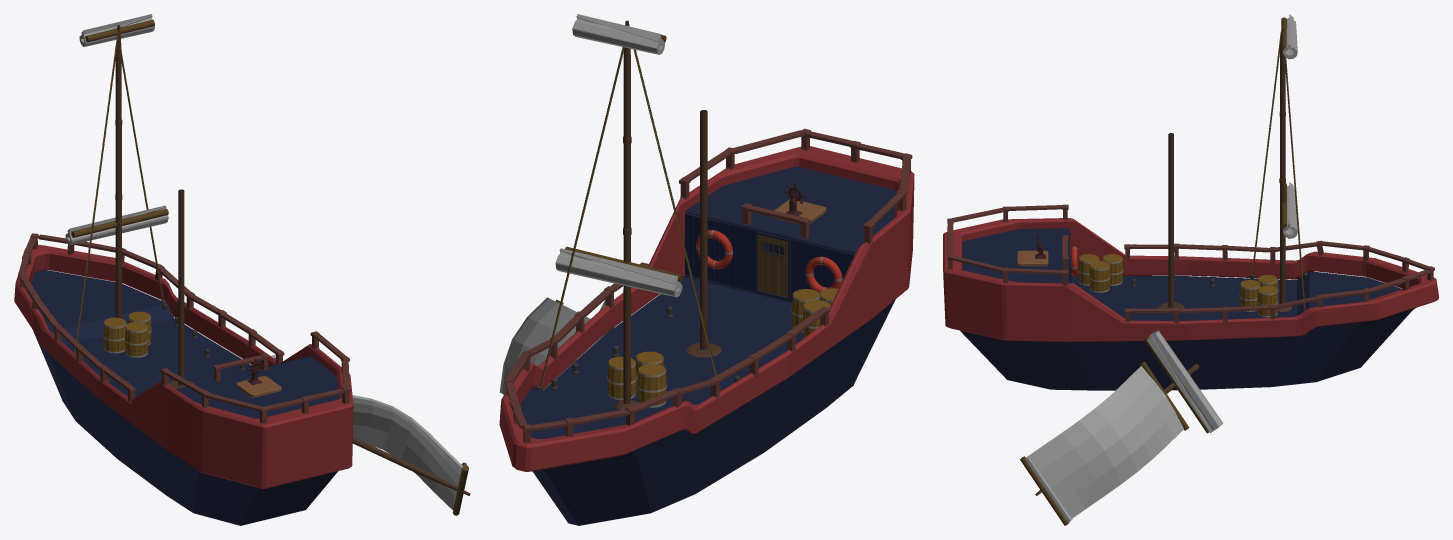
Rendered from Ship2.fbx.
The picture shows the model from 3 angles, left to right: view 1: azimuth 30°, elevation 25°; view 2: azimuth 150°, elevation 25°; view 3: azimuth 270°, elevation 25°; orthographic projection. The views are drawn at different scales.
Visible parts, largest first — view 1: Ship; view 2: Ship; view 3: Ship.
Boxes of the visible parts, box(x1,y1,x2,y2) form: Ship: box(14, 14, 470, 525); Ship: box(499, 14, 914, 525); Ship: box(943, 14, 1438, 525).
Bounding box in the file's own units: 908 × 1318 × 1465.
